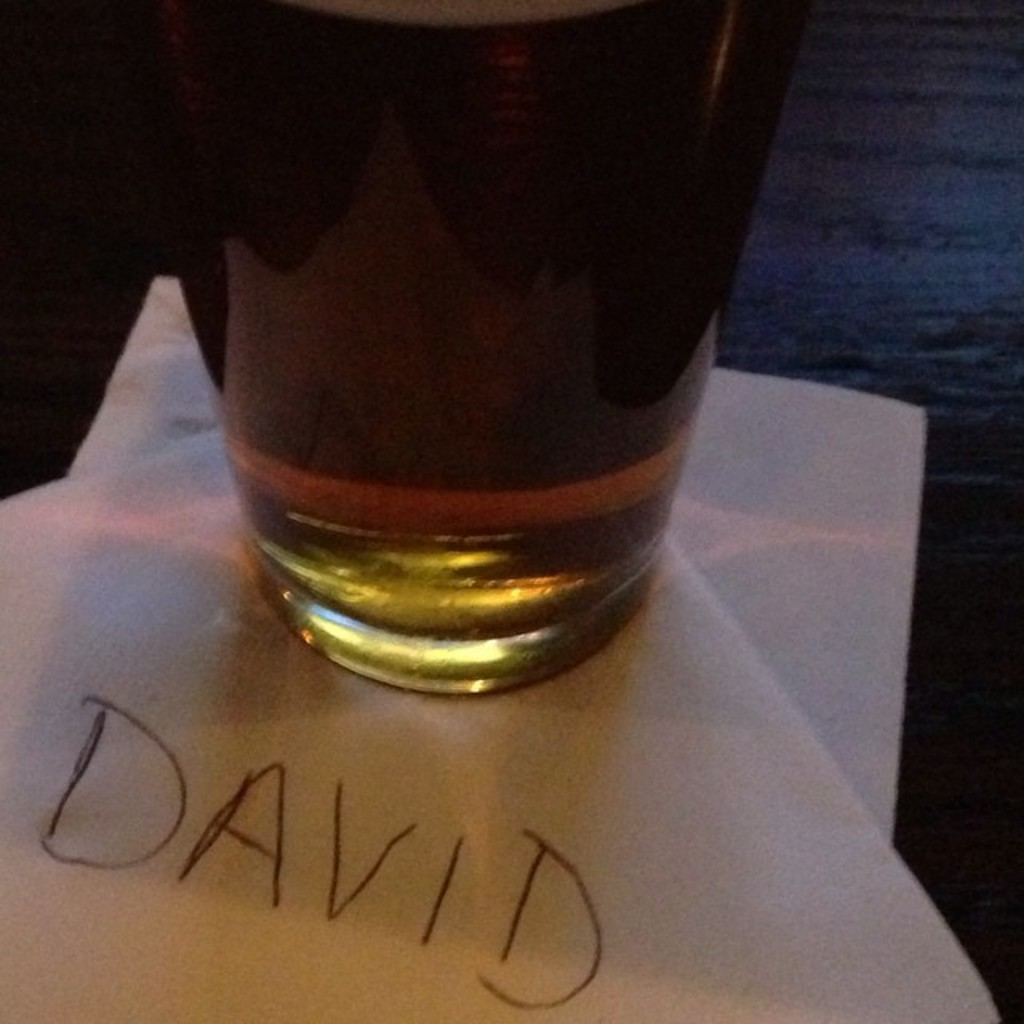Beer: (212, 0, 784, 656)
